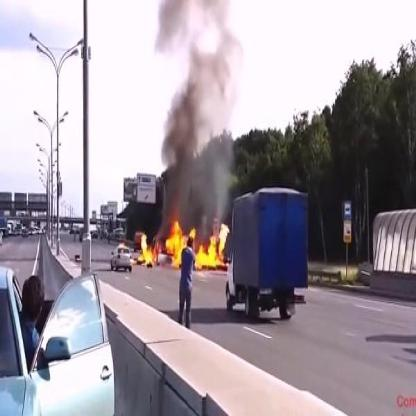fire: (137, 220, 224, 275)
